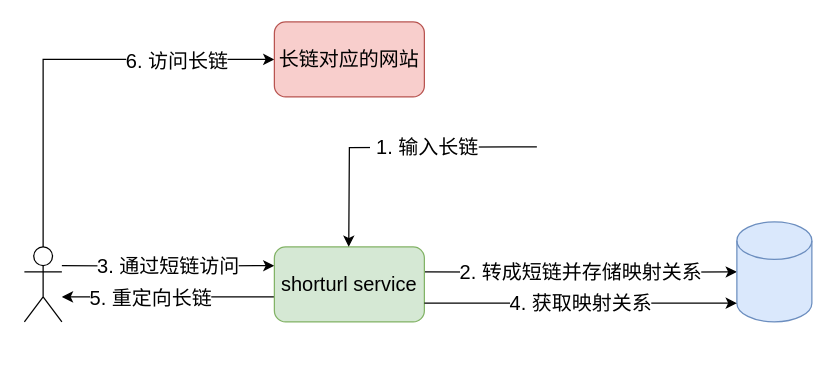
The diagram is 834 pixels wide and 376 high, and some of its shapes have lost their labels. The centre of each missing label's shape, as x and y in pixels:
User: the point at 42,284
存储: the point at 774,271
